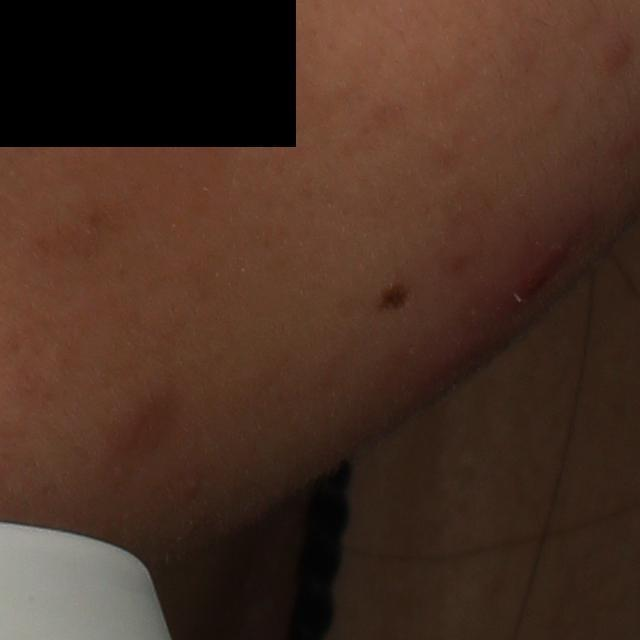nevus: (371, 278, 415, 316)
